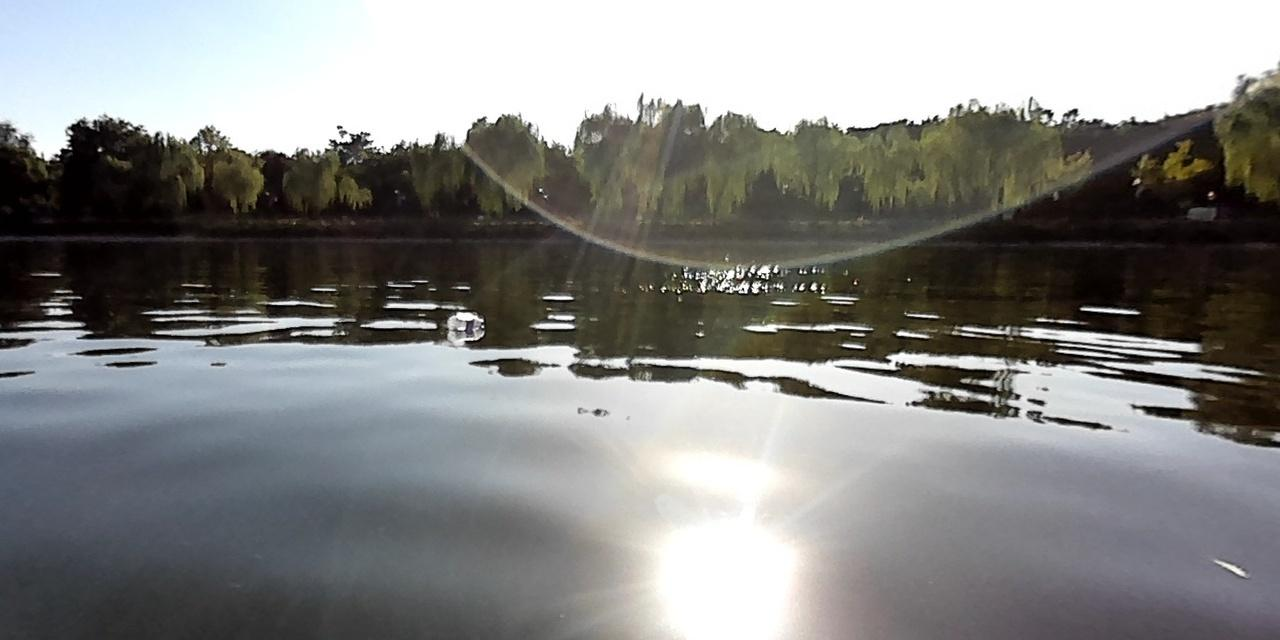bottle: (443, 311, 487, 333)
